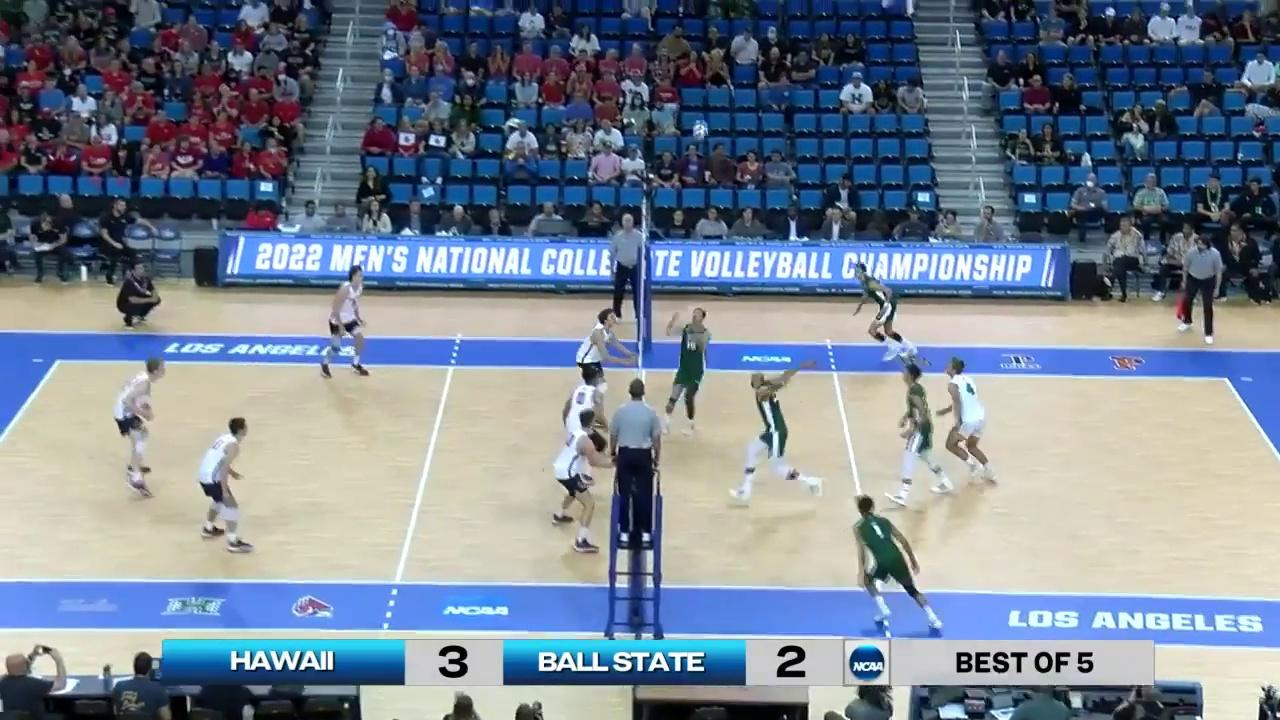player: (850, 497, 943, 640), (732, 373, 822, 503), (889, 365, 949, 503), (550, 412, 605, 550), (940, 358, 997, 487), (198, 419, 252, 553), (116, 361, 167, 498), (852, 265, 920, 361), (558, 366, 610, 481), (665, 307, 710, 438), (320, 266, 370, 381), (575, 310, 626, 396)
refree: (606, 380, 666, 544), (1178, 236, 1224, 345), (611, 214, 646, 322)
